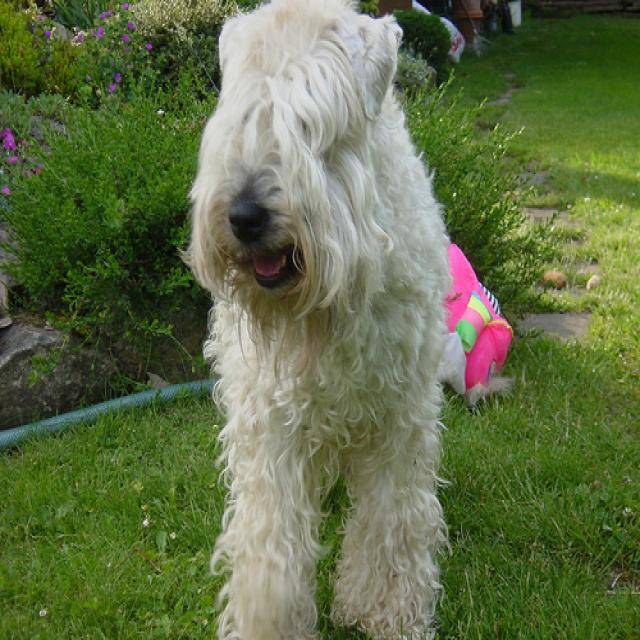dog-wheaten_terrier: (182, 2, 457, 637)
